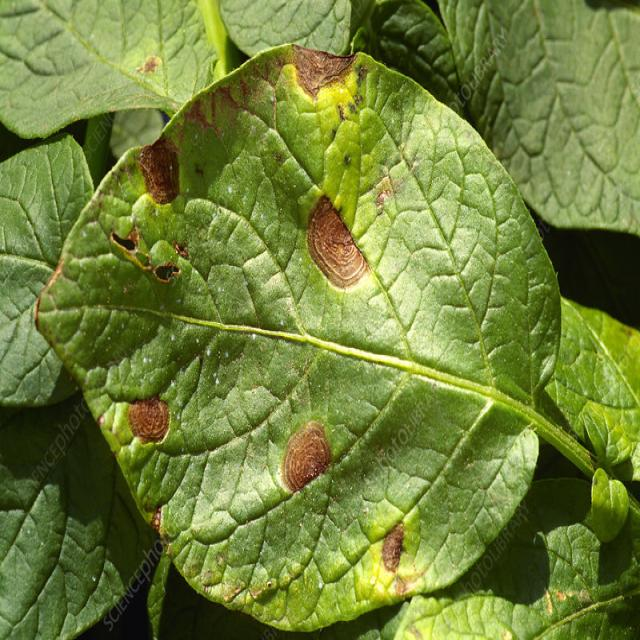earlyblight: (308, 195, 370, 290), (281, 421, 331, 492), (292, 45, 355, 97), (139, 137, 180, 205), (129, 397, 170, 443), (381, 523, 404, 571), (155, 263, 179, 280), (150, 506, 161, 532)
